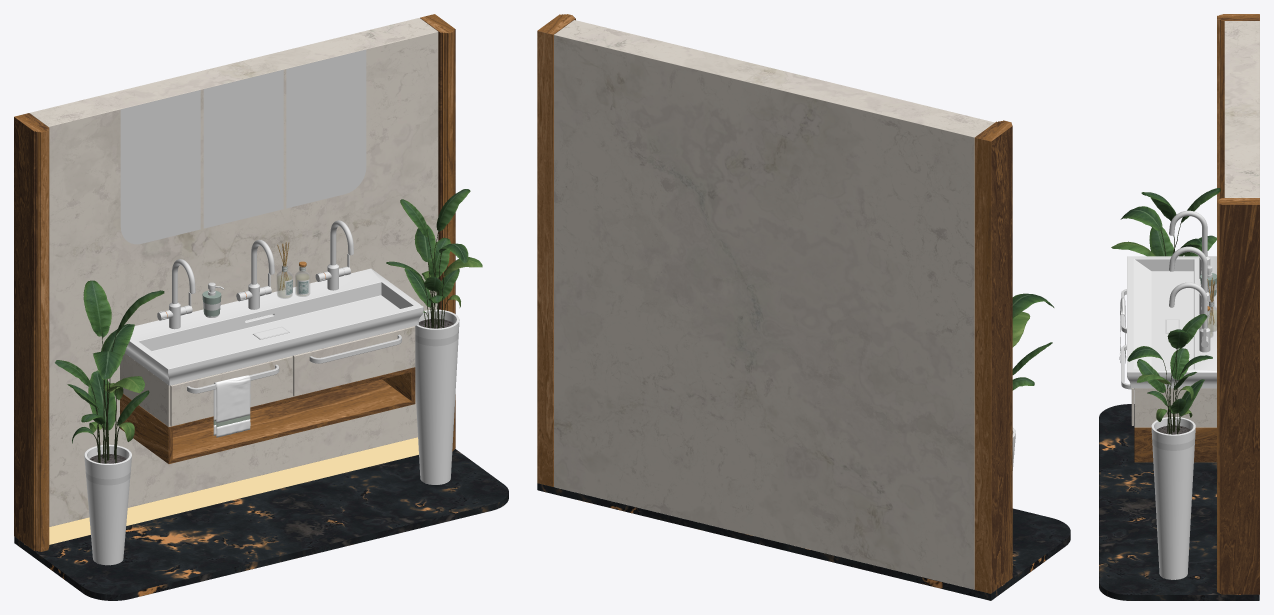
Rendered from BathRoom.gltf.
The picture shows the model from 3 angles, left to right: view 1: azimuth 30°, elevation 25°; view 2: azimuth 150°, elevation 25°; view 3: azimuth 270°, elevation 25°; orthographic projection. The views are drawn at different scales.
Visible parts, largest first — view 1: Wall, Sink, Ground, Mirror_02, Mirror_01, Mirror_03, Plant_Pot_01, Plant_02, Plant_Pot_02, Plant_01, Towel, WaterTap_01 (+2 smaller); view 2: Wall, Ground, Plant_02; view 3: Wall, Ground, Sink, Plant_Pot_01, Plant_01, Plant_02, WaterTap_01, WaterTap_02, WaterTap_03, SoapDispenser.
Part boxes in pixels (x1,y1,x2,y2): Wall: [14, 14, 455, 551]; Sink: [120, 268, 423, 463]; Ground: [14, 449, 508, 600]; Mirror_02: [203, 70, 283, 228]; Mirror_01: [120, 90, 200, 244]; Mirror_03: [286, 49, 366, 208]; Plant_Pot_01: [415, 309, 459, 484]; Plant_02: [55, 280, 164, 463]; Plant_Pot_02: [84, 444, 131, 565]; Plant_01: [386, 189, 482, 328]; Towel: [213, 375, 250, 437]; WaterTap_01: [315, 220, 353, 290]; Wall: [537, 14, 1012, 593]; Ground: [537, 483, 1070, 600]; Plant_02: [1012, 293, 1054, 390]; Wall: [1217, 14, 1259, 594]; Ground: [1099, 404, 1259, 600]; Sink: [1121, 256, 1216, 462]; Plant_Pot_01: [1151, 417, 1195, 579]; Plant_01: [1127, 314, 1212, 434]; Plant_02: [1111, 188, 1220, 256]; WaterTap_01: [1169, 282, 1210, 352]; WaterTap_02: [1169, 246, 1210, 315]; WaterTap_03: [1169, 210, 1210, 278]; SoapDispenser: [1200, 265, 1216, 296].
Bounding box in the file's own units: 2.02 × 1.94 × 0.7138.
22 materials, 9 textured.
